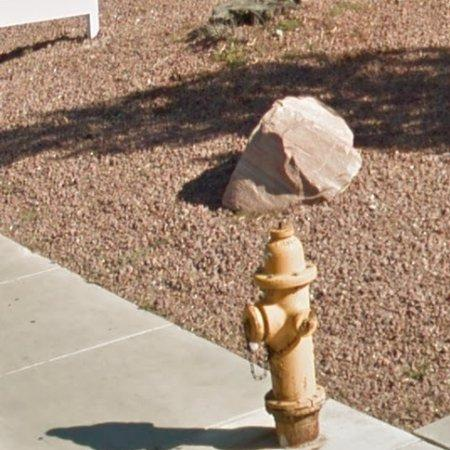a fire hydrant: (244, 226, 326, 447)
